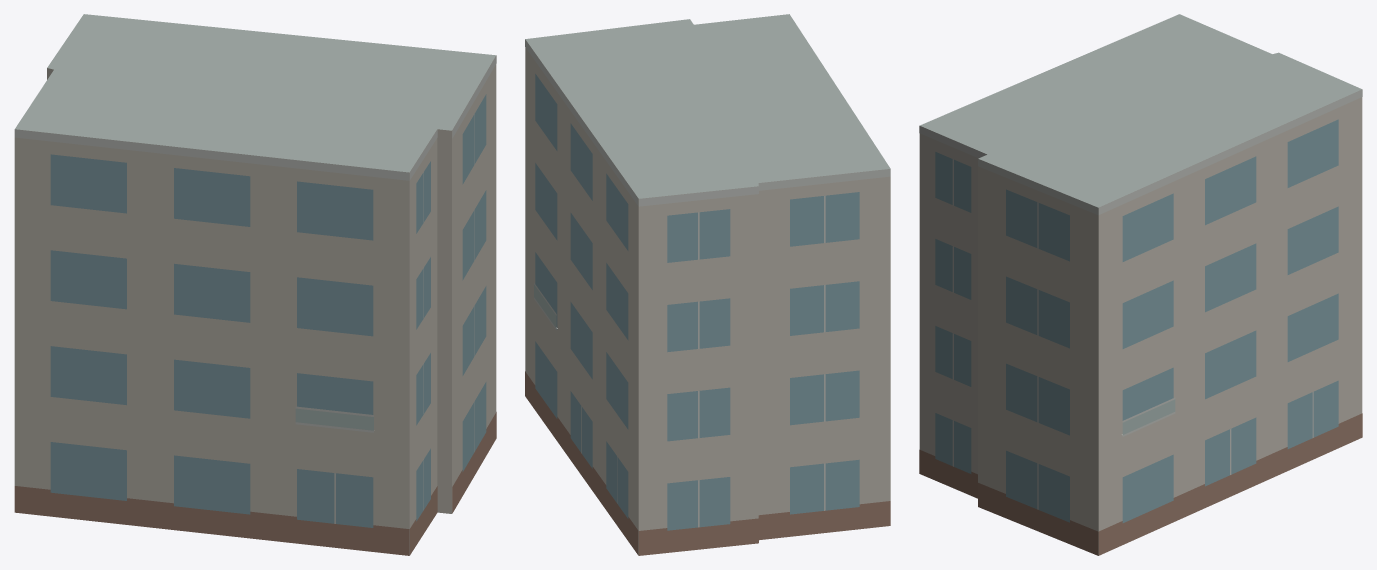
File: survey-upis-32986894.glb
3 views of the same model, side by side, from view 1: azimuth 30°, elevation 25°; view 2: azimuth 150°, elevation 25°; view 3: azimuth 270°, elevation 25° (orthographic). The views are drawn at different scales.
Parts seen in each view (by area): view 1: survey-upis-32986894.tmp; view 2: survey-upis-32986894.tmp; view 3: survey-upis-32986894.tmp.
Boxes of the visible parts, <box> form: survey-upis-32986894.tmp: <box>14,14,496,555</box>; survey-upis-32986894.tmp: <box>525,14,890,555</box>; survey-upis-32986894.tmp: <box>919,14,1362,555</box>.
Bounding box in the file's own units: 13.37 × 11.2 × 12.92.
